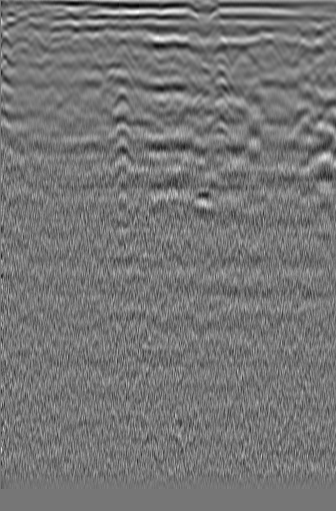가스: (190, 186, 217, 213)
상수: (287, 36, 315, 71)
오수: (16, 31, 50, 60)
우수: (135, 47, 164, 80)
